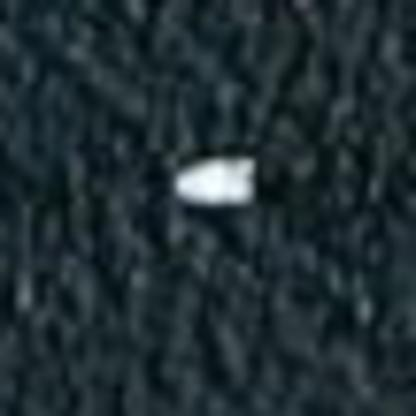ship: (153, 151, 278, 211)
